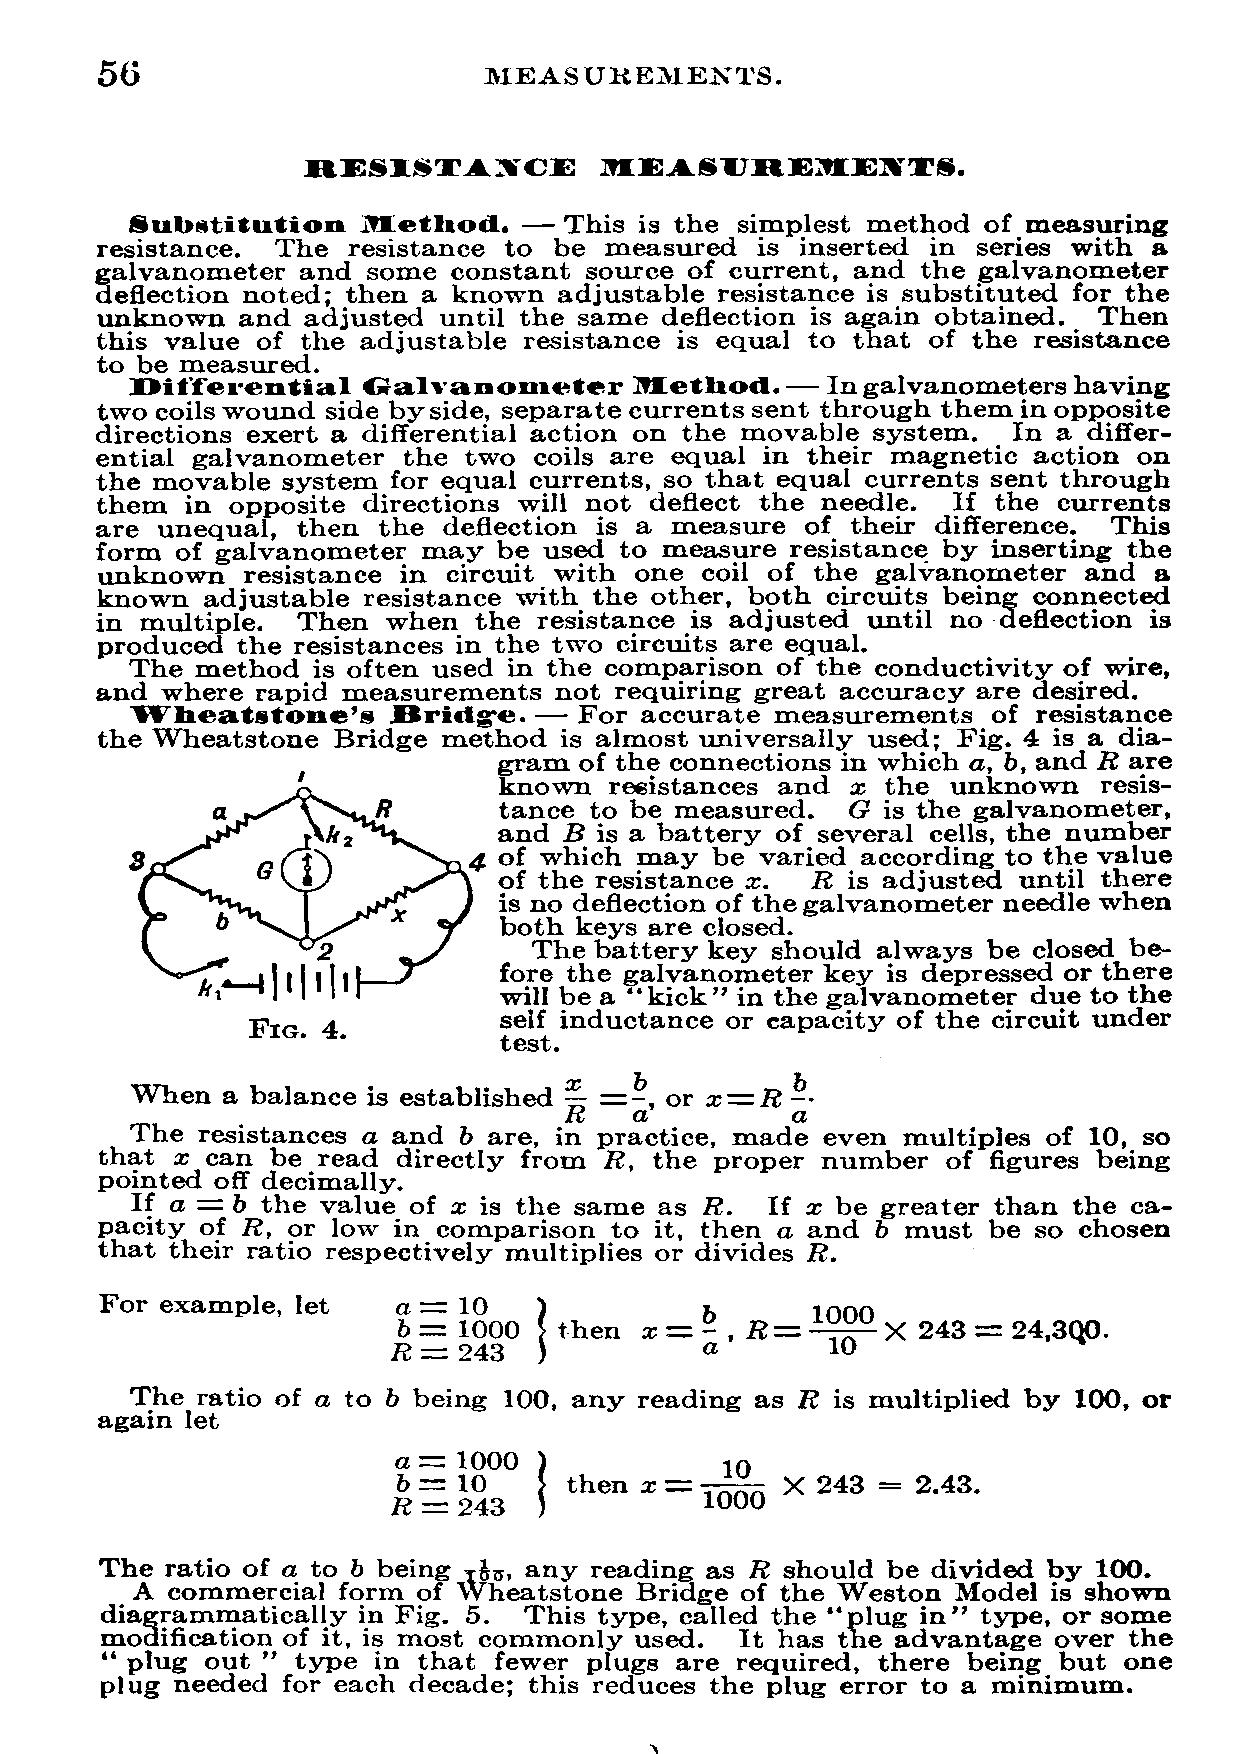chapter: (297, 148, 968, 183)
content: (89, 207, 1180, 1703)
content_chapter: (479, 63, 784, 86)
content_pagenumber: (93, 50, 144, 89)
